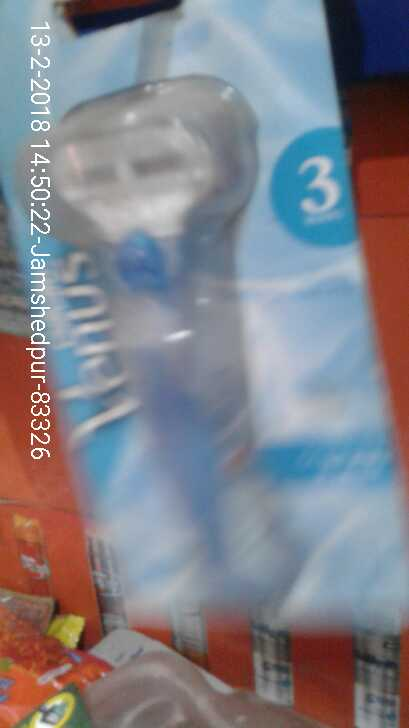venus: (40, 77, 279, 620)
